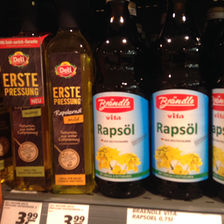oil: (151, 1, 212, 199), (91, 1, 152, 198), (43, 3, 95, 198), (5, 6, 49, 191)
